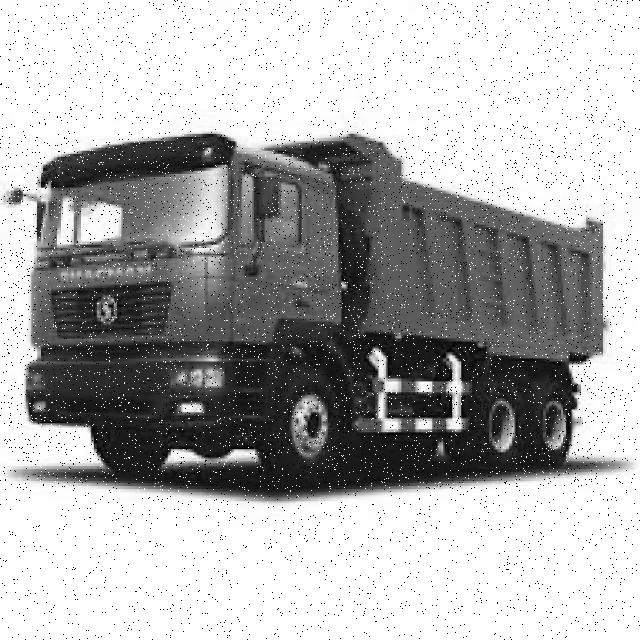Box Truck: (3, 134, 605, 490)
